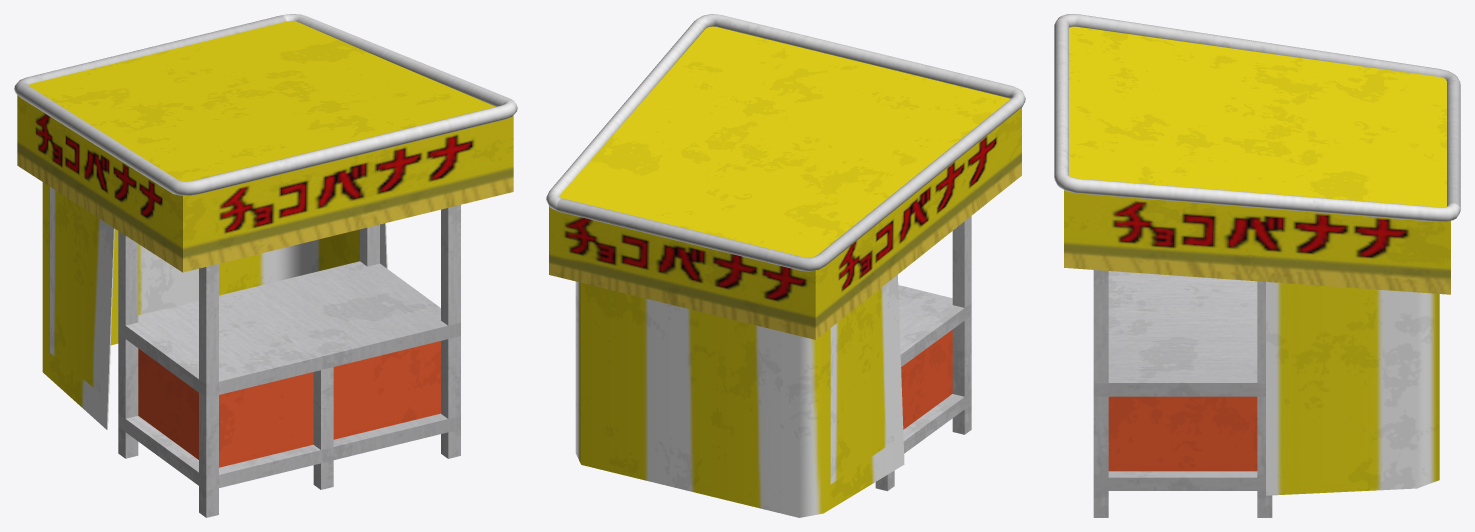
Rendered from SM_Yatai_03.fbx.
3 views of the same model, side by side, from view 1: azimuth 30°, elevation 25°; view 2: azimuth 150°, elevation 25°; view 3: azimuth 270°, elevation 25° (orthographic). The views are drawn at different scales.
Visible parts, largest first — view 1: SM_Yatai_03; view 2: SM_Yatai_03; view 3: SM_Yatai_03.
Part boxes in pixels (x1=…): SM_Yatai_03: x1=14, y1=14, x2=517, y2=517; SM_Yatai_03: x1=546, y1=14, x2=1025, y2=517; SM_Yatai_03: x1=1054, y1=14, x2=1460, y2=517.
Bounding box in the file's own units: 27.15 × 26.65 × 27.28.
